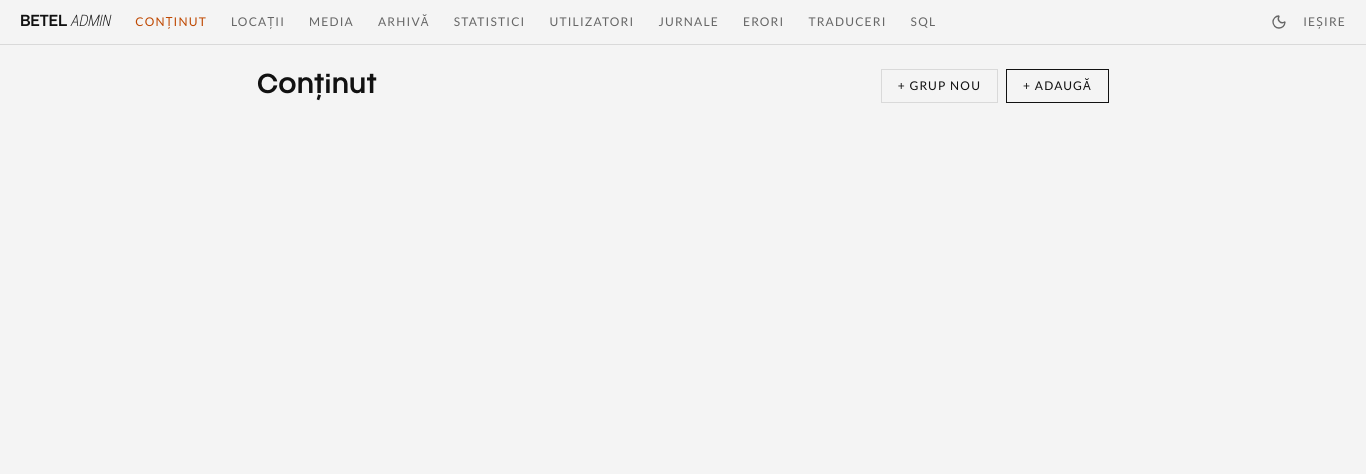
Test: Admin — users (super-admin only) › creates a new user and shows the temp password
Click the link "Utilizatori" at (593, 22), box left=550, top=14, right=635, bottom=30
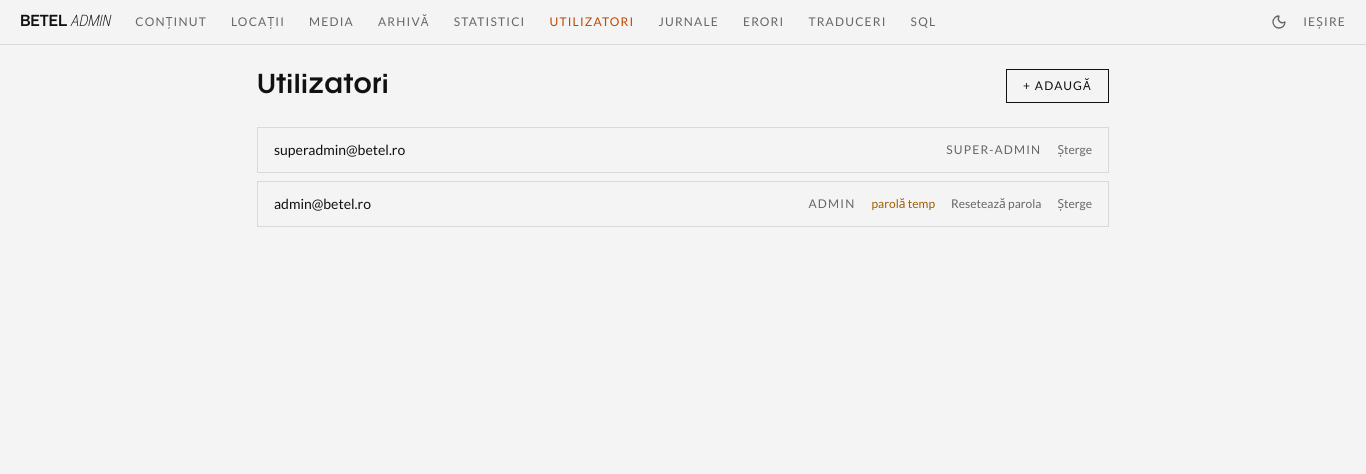
Click the button with test id "create-user-btn" at (1058, 86), box left=1006, top=69, right=1109, bottom=103
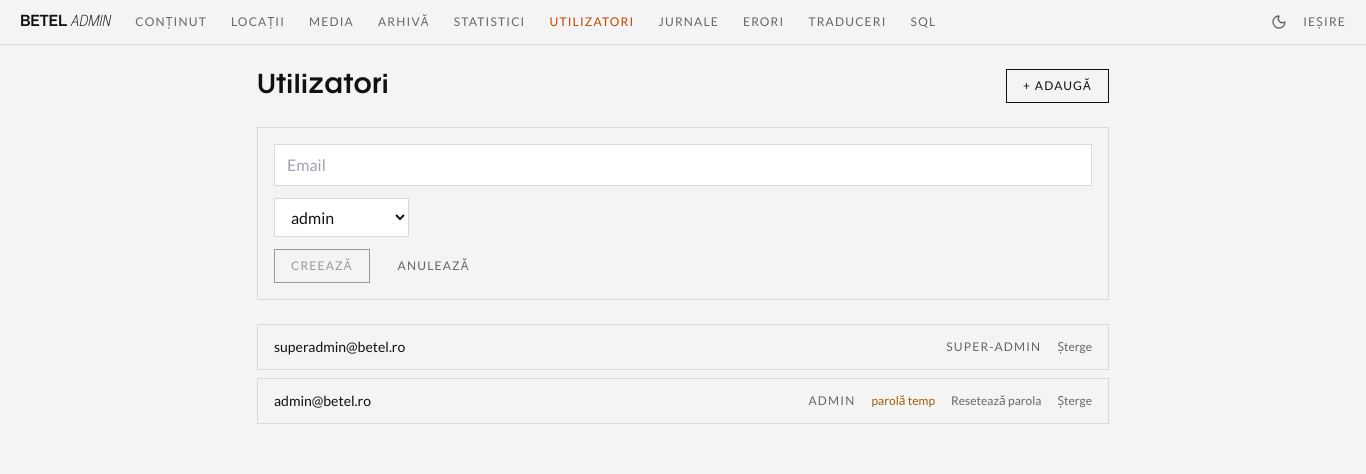
expect the element with test id "create-user-form" is shown: met, box left=257, top=127, right=1109, bottom=300
Type "nou@betel.ro" into the field with test id "create-user-email" at (683, 165), box left=274, top=144, right=1092, bottom=186
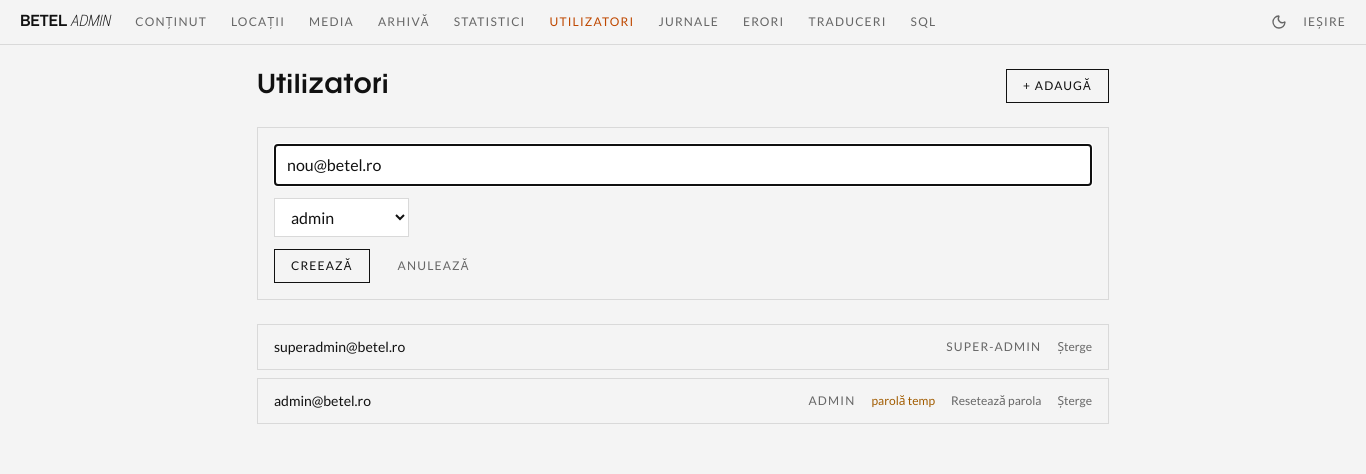
Select "admin" in the dropdown with test id "create-user-role" at (342, 218), box left=274, top=198, right=409, bottom=237
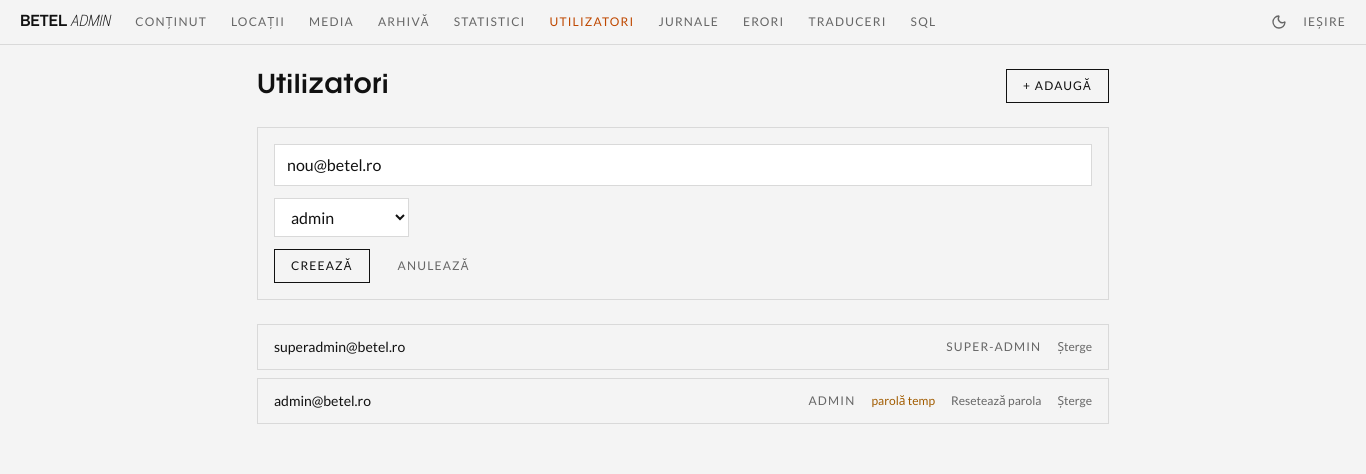
Click the button with test id "create-user-submit" at (322, 266), box left=274, top=249, right=370, bottom=283
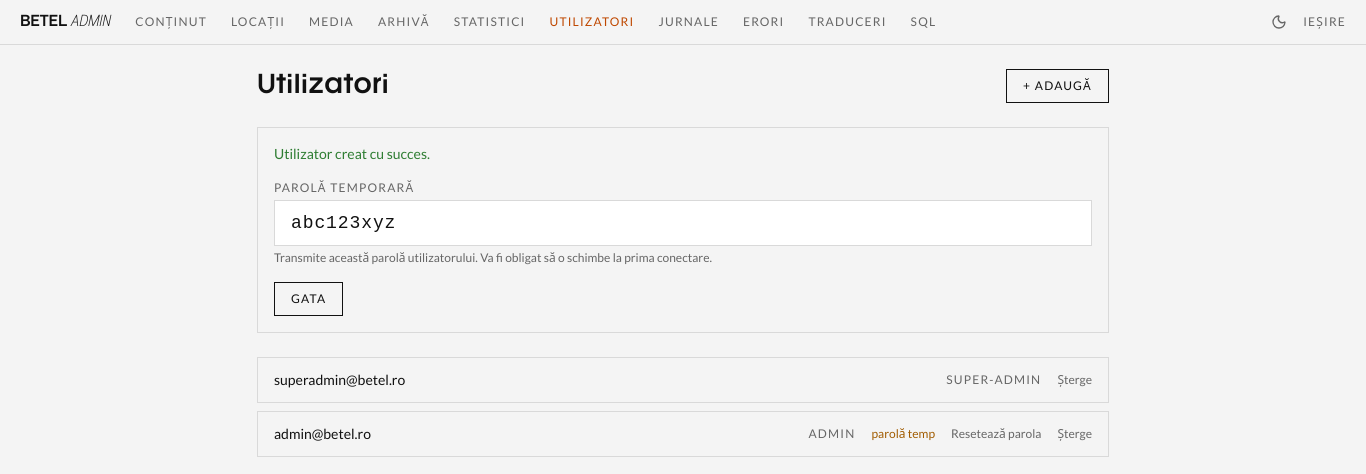
expect the element with test id "temp-password-display" is shown: met, box left=257, top=127, right=1109, bottom=333
expect the text with test id "temp-password-value" reads "abc123xyz": met, box left=291, top=213, right=396, bottom=233
